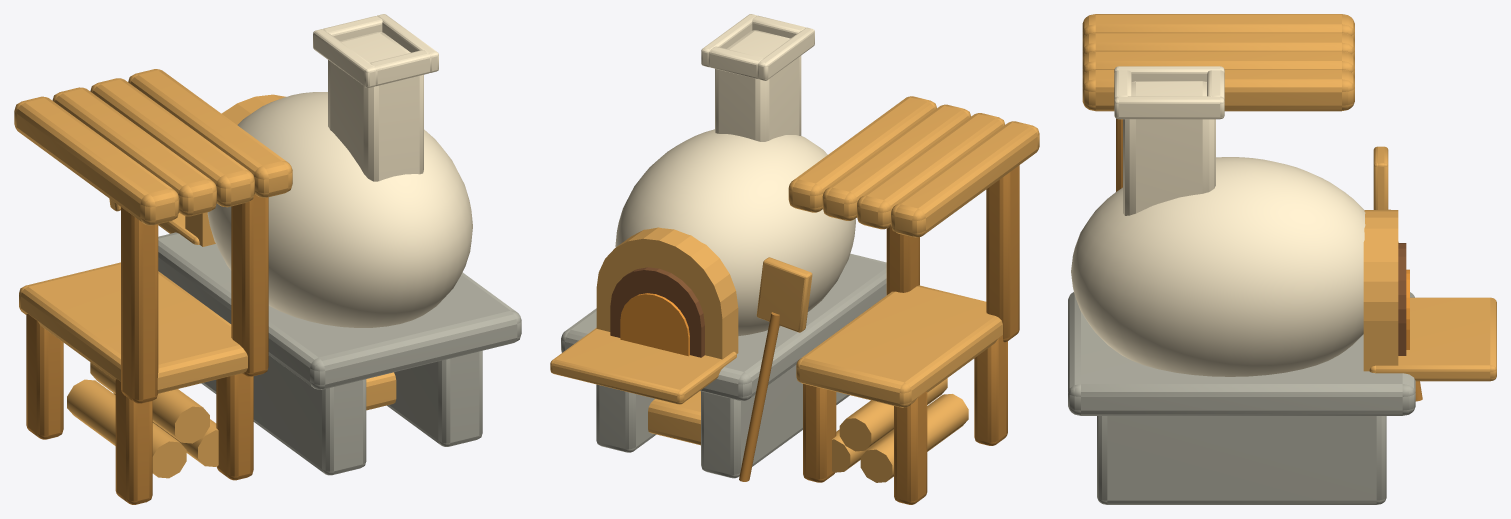
The model's file is oven.fbx.
3 views of the same model, side by side, from view 1: azimuth 30°, elevation 25°; view 2: azimuth 150°, elevation 25°; view 3: azimuth 270°, elevation 25° (orthographic). The views are drawn at different scales.
Visible parts, largest first — view 1: oven; view 2: oven; view 3: oven.
Part boxes in pixels (bbox=[...]): oven: bbox=[14, 14, 521, 504]; oven: bbox=[550, 14, 1039, 504]; oven: bbox=[1068, 14, 1496, 504].
Bounding box in the file's own units: 2 × 2 × 2.
Materials: 1 (1 with a texture image).
